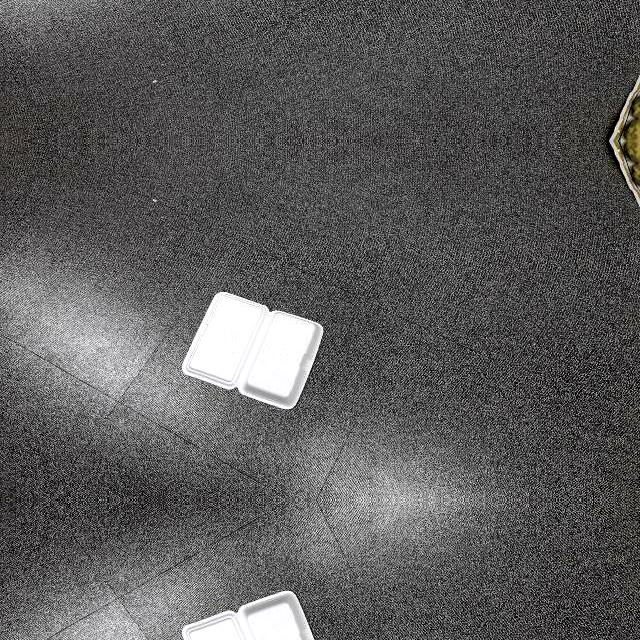Styrofoam: (181, 290, 325, 410), (182, 291, 323, 408), (181, 588, 325, 640), (182, 590, 314, 640)
